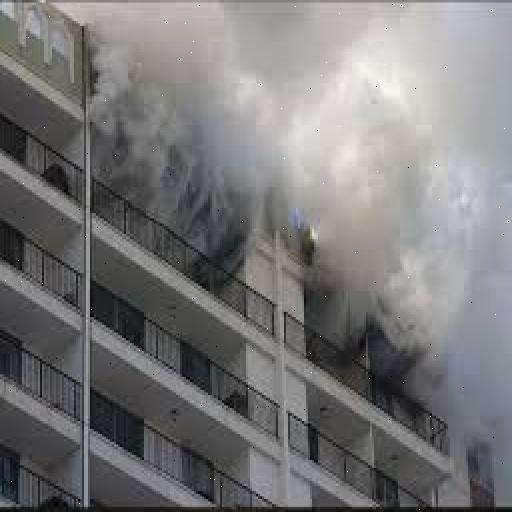smoke: (88, 5, 512, 322)
